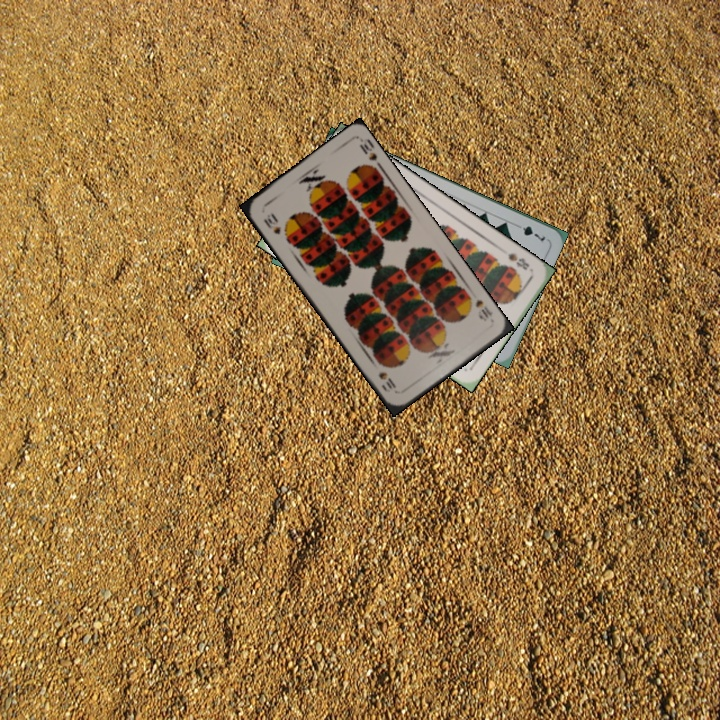G7: (510, 221, 548, 245)
S10: (463, 291, 495, 324), (259, 209, 283, 237)
S8: (504, 249, 532, 273)
